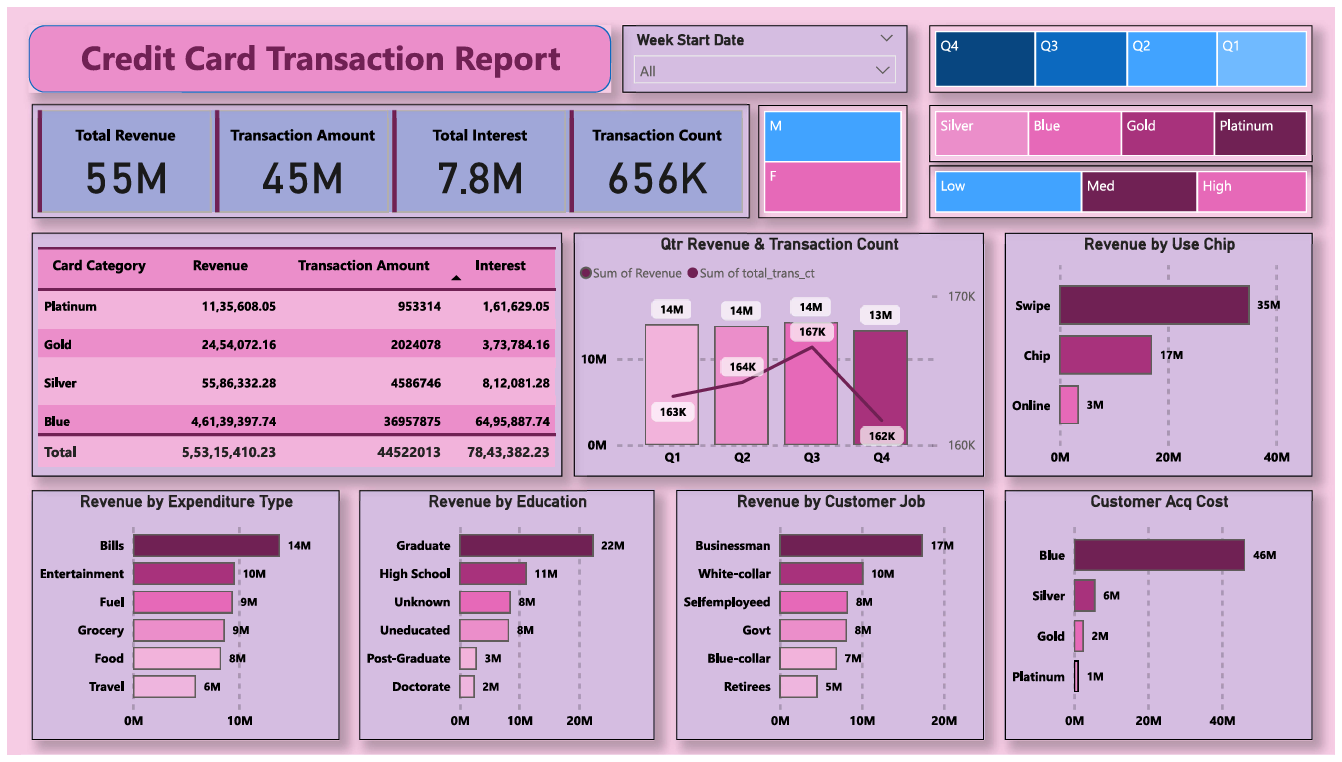

What the dashboard file says about the page in this screenshot:
{"tool":"powerbi","page":{"name":"Transaction Report","canvas":[1280,720],"ordinal":0},"visuals":[{"type":"lineStackedColumnComboChart","title":"Qtr Revenue & Transaction Count","fields":{"Category":["public credit_card.qtr"],"Y":["Sum(public credit_card.Revenue)"],"Y2":["Sum(public credit_card.total_trans_ct)"]},"box":[545.6,217.1,396.5,234.4],"z":0},{"type":"barChart","title":"Revenue by Expenditure Type","fields":{"Category":["public credit_card.exp_type"],"Y":["Sum(public credit_card.Revenue)"]},"box":[23.2,464.5,296.7,241.7],"z":1000},{"type":"barChart","title":"Revenue by Education","fields":{"Category":["public customer.education_level"],"Y":["Sum(public credit_card.Revenue)"]},"box":[338.6,464.5,285.1,241.7],"z":2000},{"type":"barChart","title":"Revenue by Customer Job","fields":{"Y":["Sum(public credit_card.Revenue)"],"Category":["public customer.customer_job"]},"box":[645.4,464.5,296.7,241.7],"z":3000},{"type":"barChart","title":"Customer Acq Cost","fields":{"Category":["public credit_card.card_category"],"Y":["Sum(public credit_card.Revenue)"]},"box":[962.4,464.5,296.7,241.7],"z":4000},{"type":"barChart","title":"Revenue by Use Chip","fields":{"Y":["Sum(public credit_card.Revenue)"],"Category":["public credit_card.use_chip"]},"box":[962.4,217.1,296.7,234.4],"z":5000},{"type":"tableEx","fields":{"Values":["public credit_card.card_category","Sum(public credit_card.Revenue)","Sum(public credit_card.total_trans_amt)","Sum(public credit_card.interest_earned)"]},"box":[23.2,217.1,512.3,234.4],"z":6000},{"type":"cardVisual","fields":{"Data":["Sum(public credit_card.Revenue)","Sum(public credit_card.total_trans_amt)","Sum(public credit_card.interest_earned)","Sum(public credit_card.total_trans_ct)"]},"box":[23.2,92.6,693.2,110],"z":7000},{"type":"slicer","fields":{"Values":["public credit_card.week_start_date"]},"box":[593.3,17.4,275,65.1],"z":8000},{"type":"treemap","fields":{"Group":["public credit_card.qtr"],"Values":["Avg(public credit_card.client_num)"]},"box":[888.6,17.4,370.5,65.1],"z":9000},{"type":"treemap","fields":{"Values":["Min(public credit_card.client_num)"],"Group":["public customer.gender"]},"box":[723.6,94.1,144.7,108.5],"z":10000},{"type":"treemap","fields":{"Group":["public credit_card.card_category"],"Values":["Avg(public credit_card.client_num)"]},"box":[888.6,94.1,370.5,55],"z":11000},{"type":"treemap","fields":{"Values":["Sum(public credit_card.client_num)"],"Group":["public customer.IncomeGroup"]},"box":[888.6,152,370.5,50.7],"z":12000},{"type":"shape","box":[20.3,17.4,561.5,65.1],"z":13000},{"type":"textbox","box":[34.7,20.3,534,57.9],"z":14000}]}

Visuals, with their boxes in screenshot pixels (x1, y1, x2, y2), scaled from the page's 1280x720 canvas onto the 1342x762 screenshot:
"Qtr Revenue & Transaction Count" lineStackedColumnComboChart: locate(572, 230, 988, 478)
"Revenue by Expenditure Type" barChart: locate(24, 492, 335, 747)
"Revenue by Education" barChart: locate(355, 492, 654, 747)
"Revenue by Customer Job" barChart: locate(677, 492, 988, 747)
"Customer Acq Cost" barChart: locate(1009, 492, 1320, 747)
"Revenue by Use Chip" barChart: locate(1009, 230, 1320, 478)
tableEx - public credit_card.card_category x Sum(public credit_card.Revenue): locate(24, 230, 561, 478)
cardVisual - Sum(public credit_card.Revenue) x Sum(public credit_card.total_trans_amt): locate(24, 98, 751, 214)
slicer - public credit_card.week_start_date: locate(622, 18, 910, 87)
treemap - public credit_card.qtr x Avg(public credit_card.client_num): locate(932, 18, 1320, 87)
treemap - Min(public credit_card.client_num) x public customer.gender: locate(759, 100, 910, 214)
treemap - public credit_card.card_category x Avg(public credit_card.client_num): locate(932, 100, 1320, 158)
treemap - Sum(public credit_card.client_num) x public customer.IncomeGroup: locate(932, 161, 1320, 215)
shape: locate(21, 18, 610, 87)
textbox: locate(36, 21, 596, 83)
